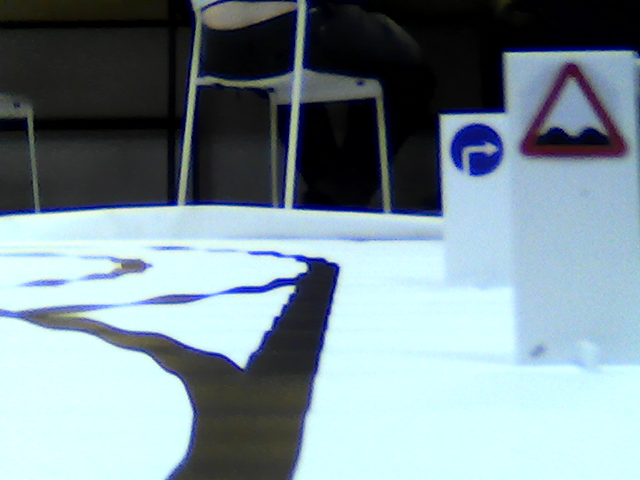Nerov: (518, 60, 633, 169)
Right: (449, 121, 502, 178)
